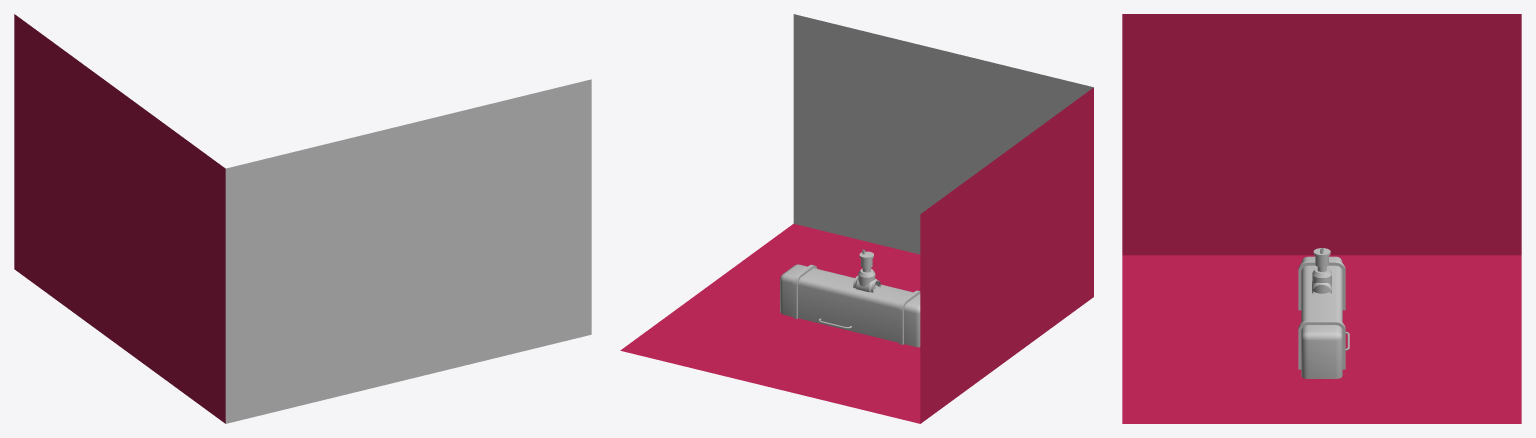
The model's file is Game_meshes.fbx.
3 renders of one model, left to right at view 1: azimuth 30°, elevation 25°; view 2: azimuth 150°, elevation 25°; view 3: azimuth 270°, elevation 25°, orthographic. The views are drawn at different scales.
Visible parts, largest first — view 1: Casa; view 2: Casa, I_, Connector; view 3: Casa, I_, Connector.
Part boxes in pixels (x1=…): Casa: x1=14, y1=14, x2=591, y2=423; Casa: x1=620, y1=14, x2=1093, y2=423; I_: x1=780, y1=264, x2=920, y2=347; Connector: x1=853, y1=249, x2=880, y2=292; Casa: x1=1122, y1=14, x2=1521, y2=423; I_: x1=1298, y1=256, x2=1345, y2=378; Connector: x1=1312, y1=248, x2=1331, y2=294.
Bounding box in the file's own units: 2313 × 1798 × 2313.
